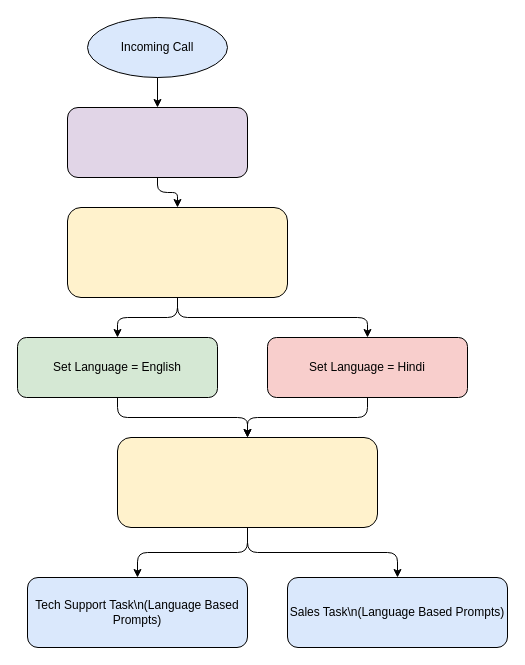
Image size: 525x665. Some labels were removed from this diagram. The shapes that lost their labels are listed below. From the top down, each one's centre as x and y in pixels, then its label:
At [157,142]: "Welcome Greeting\n(English + Hindi)".
At [177,252]: "Language Selection Menu\n1: English\n2: Hindi".
At [247,482]: "Department Menu\n1: Tech Support\n2: Sales\n(Multilanguage)".
